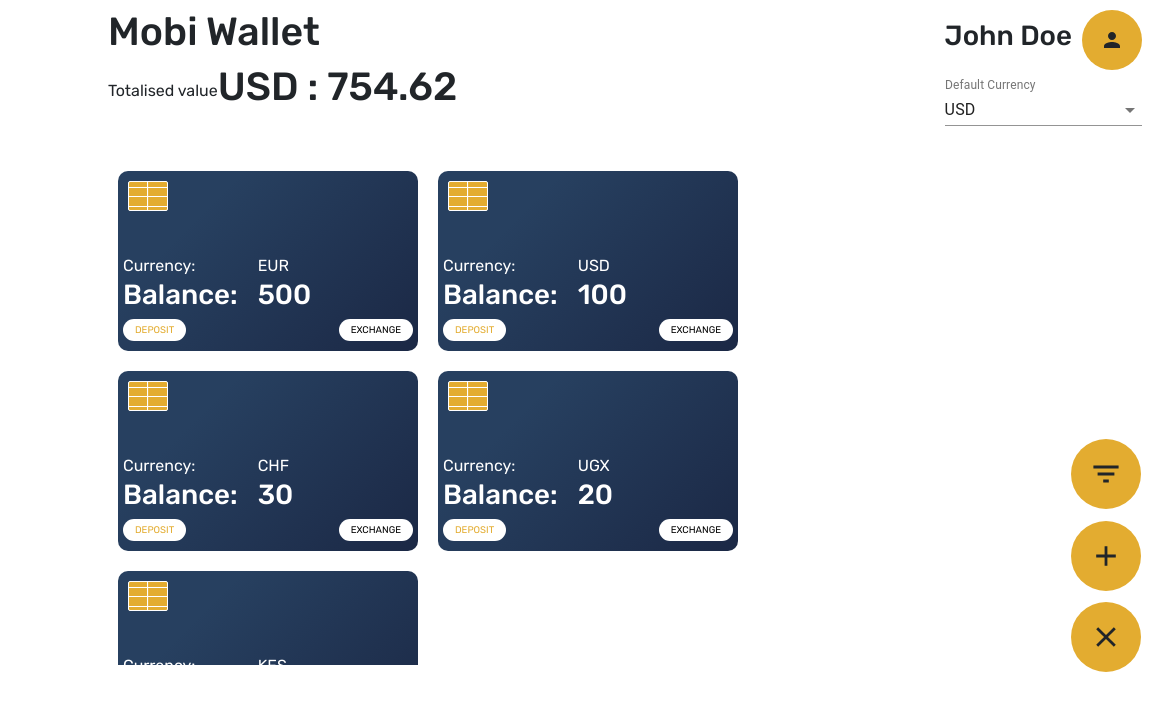
should change default currency
Replace the text in the field labelled "Default Currency" with "us" at (1015, 110), box [945, 94, 1086, 125]
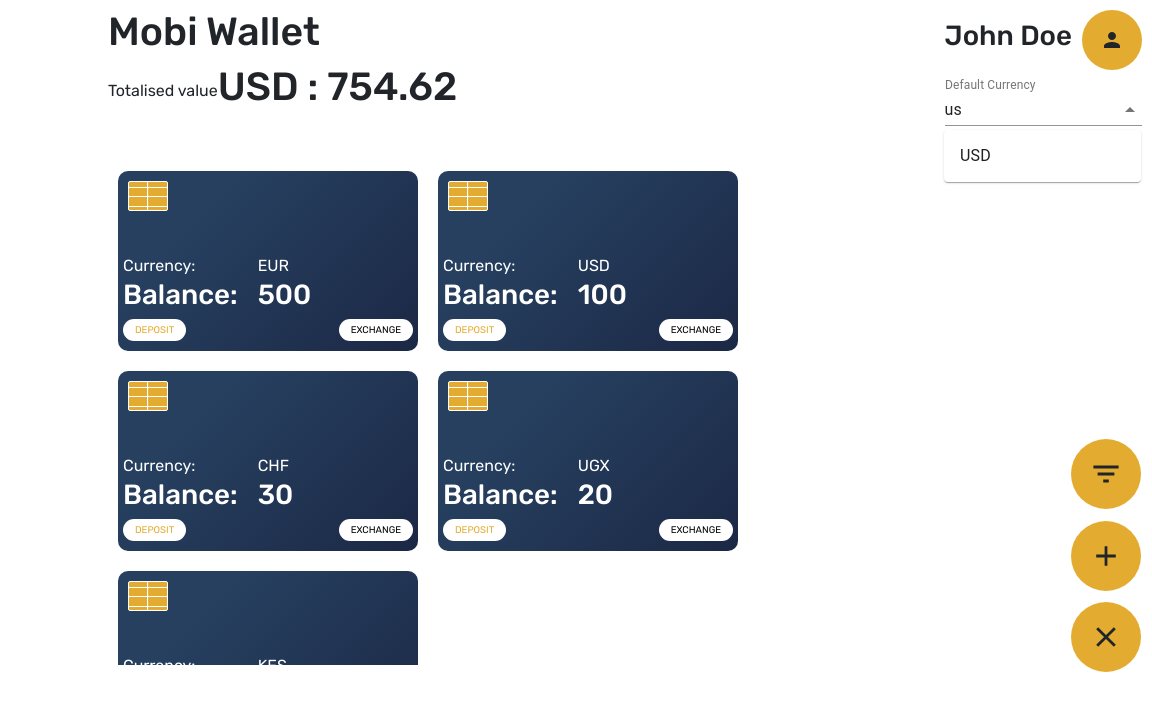
Press ArrowDown in the dropdown with test id "default-currency" showing "Default Currency", box [945, 78, 1142, 126]
Press Enter in the dropdown with test id "default-currency" showing "Default Currency", box [945, 78, 1142, 126]
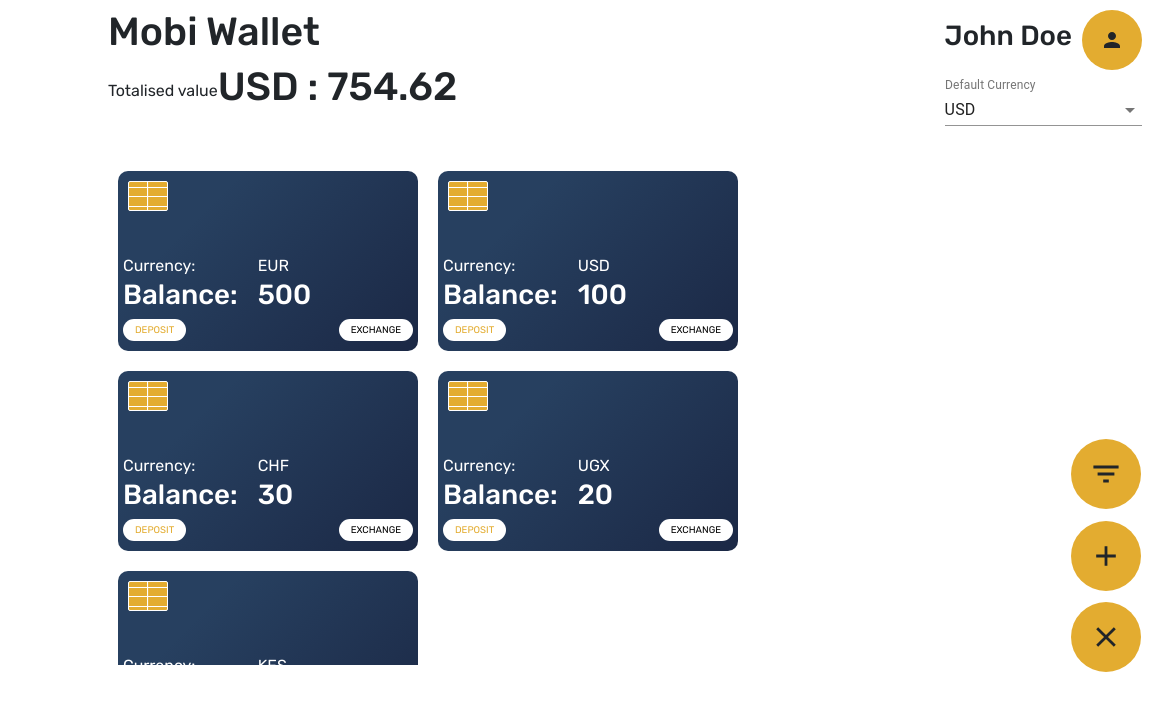
Now the field labelled "Default Currency" holds "USD", box [945, 94, 1086, 125]
